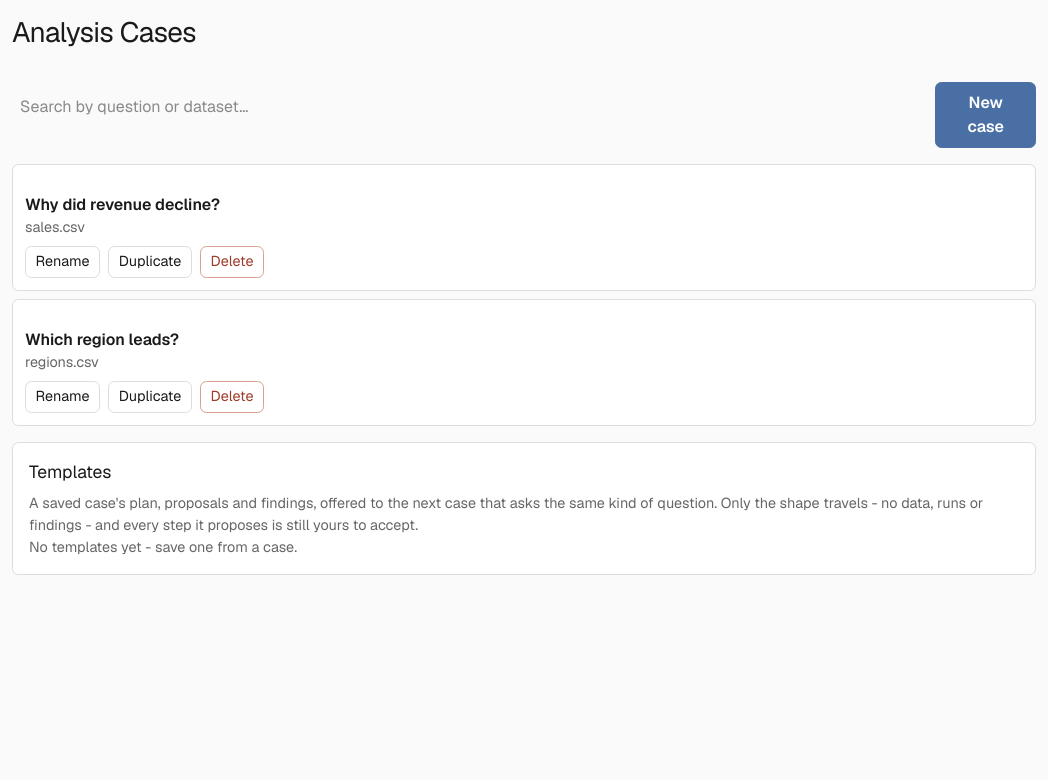
Test case: CaseList › deletes only after a second click that names what it removes
This screenshot has width=1048, height=780.
Expected: the text "Why did revenue decline?" is shown, [25,193,220,217]
Click the button with aria-label "delete why did revenue decline" at (232, 262), box [200,246,264,278]
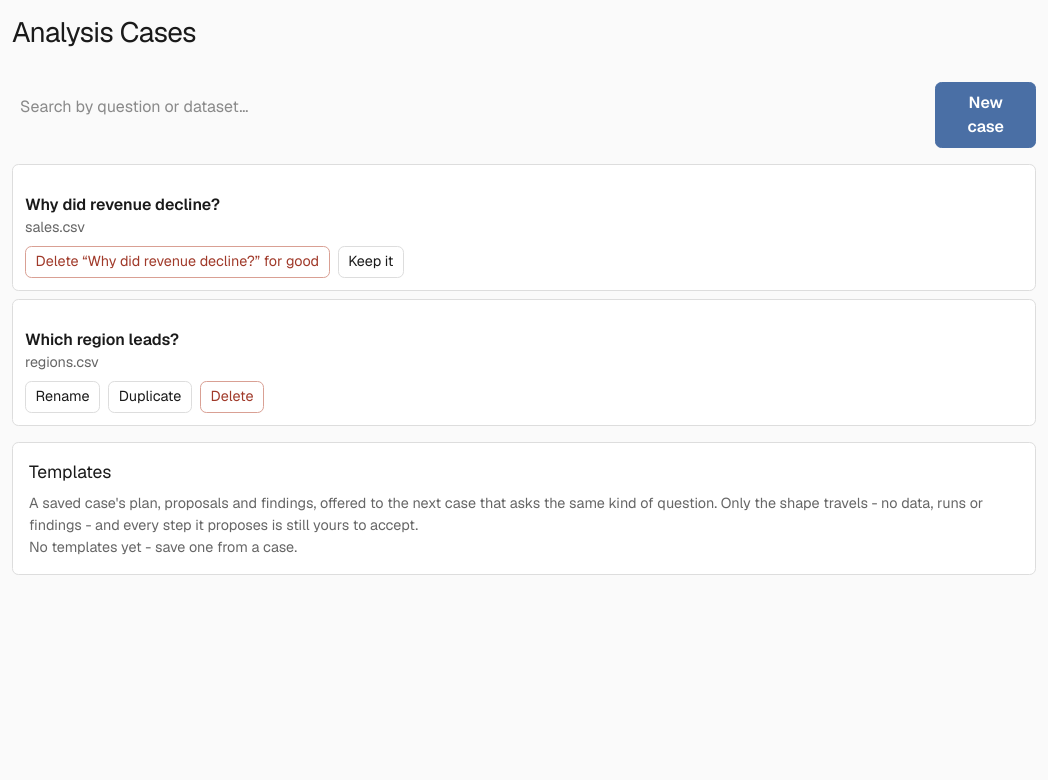
Result: the button with aria-label "confirm deleting why did revenue decline" is shown
Note: The second click is the one that removes, and its label names the case.
Click the button with aria-label "confirm deleting why did revenue decline" at (177, 262), box [25,246,330,278]
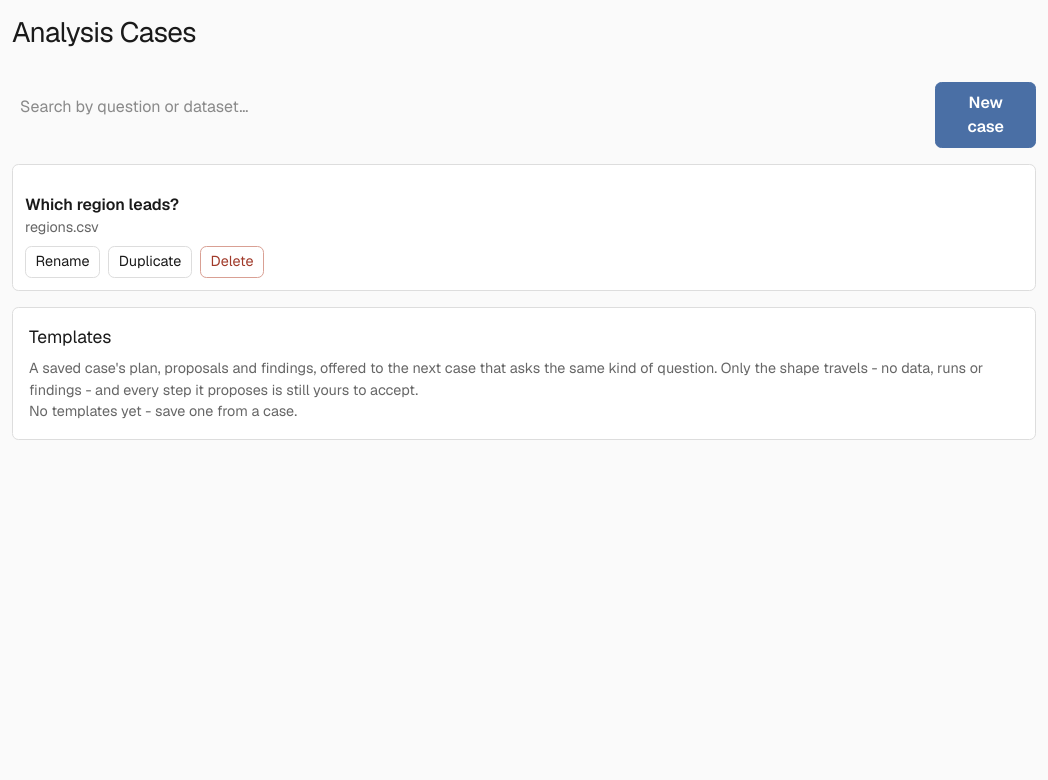
Expected: the text "Which region leads?" is shown, [25,193,179,217]
Result: the button "Why did revenue decline?" is gone
